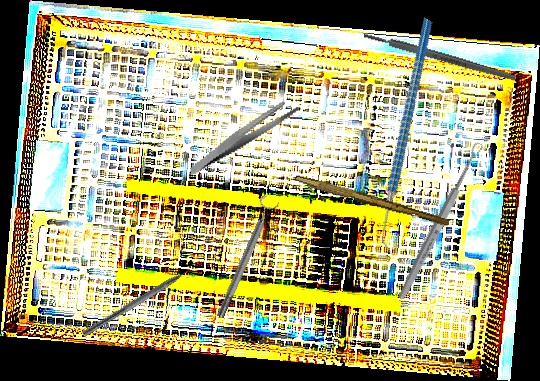Chopper: (310, 17, 508, 256), (81, 260, 205, 345)
Dressing Forceps: (178, 97, 309, 176)
Fixation Ring: (209, 194, 282, 321)
Scalpel Handle: (293, 174, 451, 228), (362, 30, 517, 83)
Surgical Spoon: (396, 140, 485, 302)
